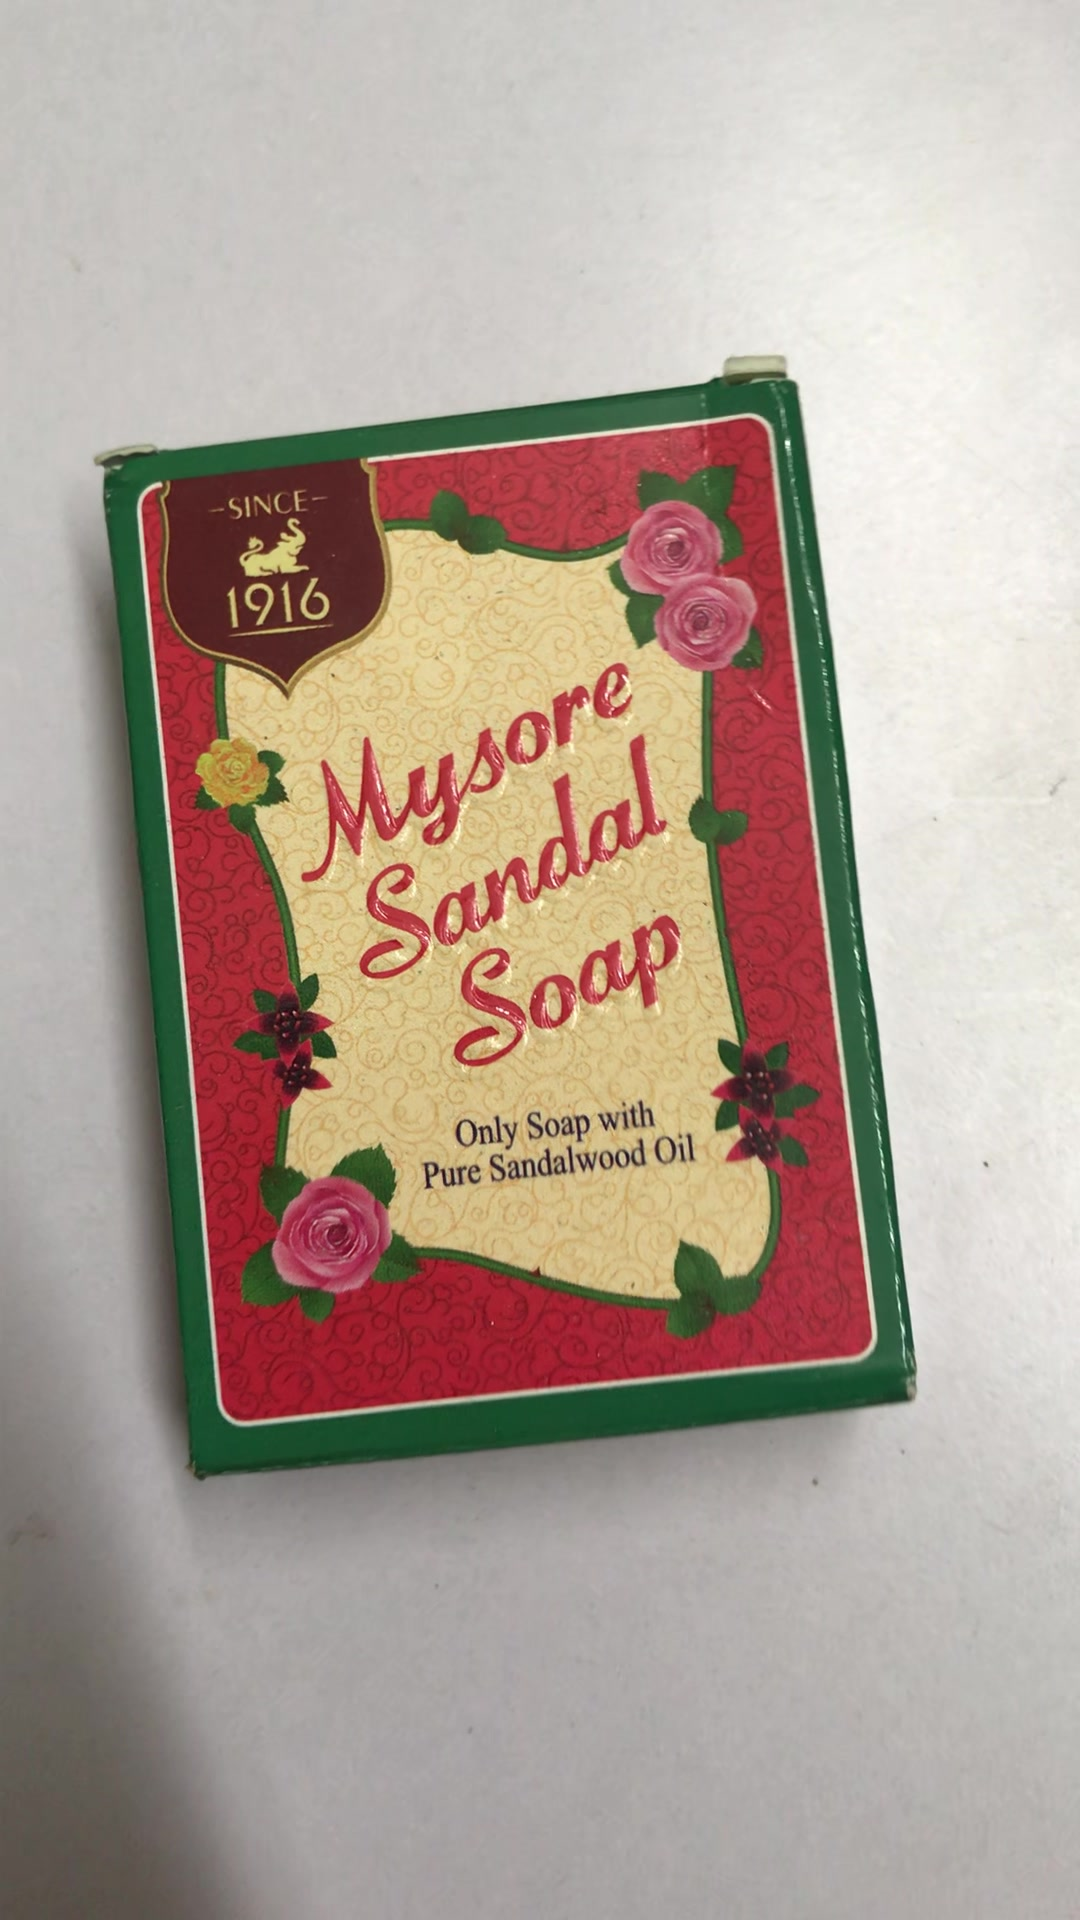mysore sandal soap: (109, 375, 909, 1465)
